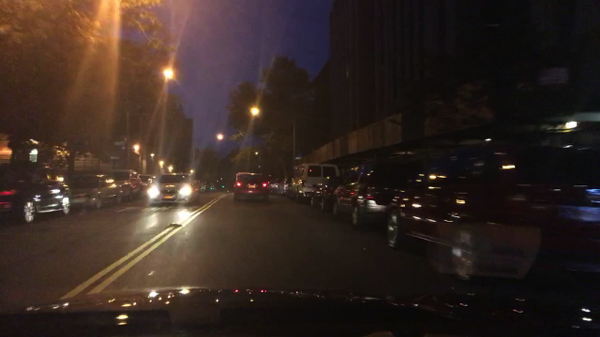car: (382, 142, 599, 282), (330, 156, 422, 230), (0, 162, 72, 222), (289, 161, 340, 203), (147, 173, 203, 207), (68, 175, 121, 208), (107, 169, 144, 204), (232, 171, 270, 203), (307, 174, 340, 209), (138, 174, 157, 195), (277, 175, 294, 196), (270, 176, 283, 195), (266, 179, 274, 191)
traffic sign: (115, 141, 127, 147)
